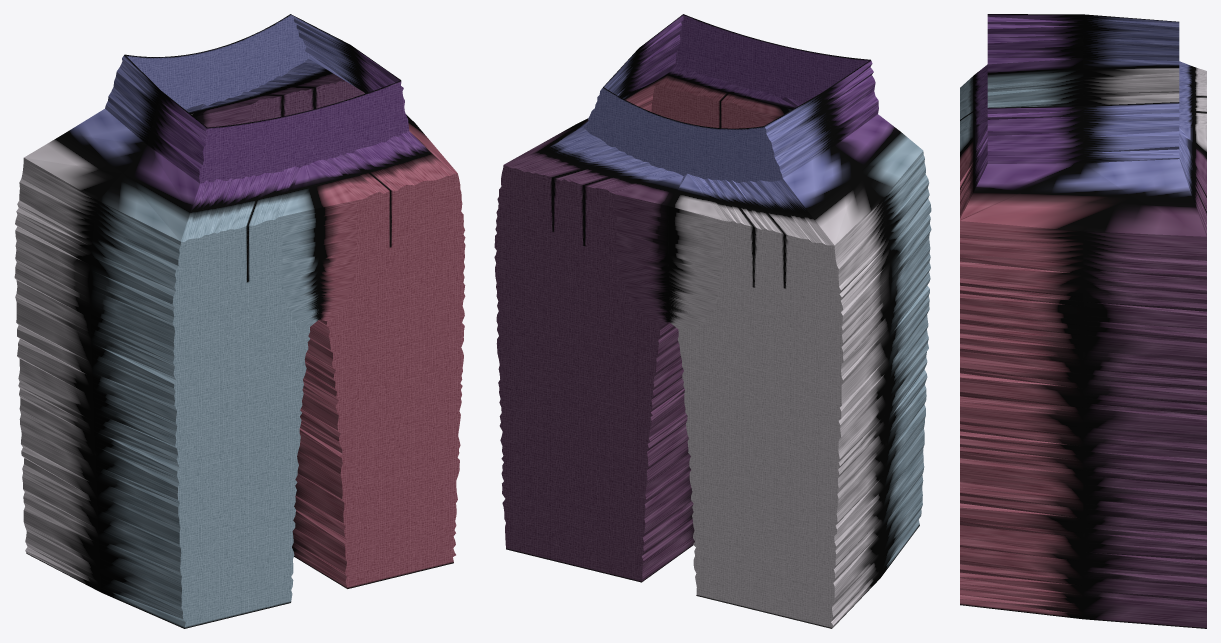
Rendered from generated_rand_3MX8P0MTR6_boxmesh.obj.
3 views of the same model, side by side, from view 1: azimuth 30°, elevation 25°; view 2: azimuth 150°, elevation 25°; view 3: azimuth 270°, elevation 25° (orthographic). The views are drawn at different scales.
Bounding box in the file's own units: 75.36 × 97.93 × 45.
Materials: 1 (1 with a texture image).
